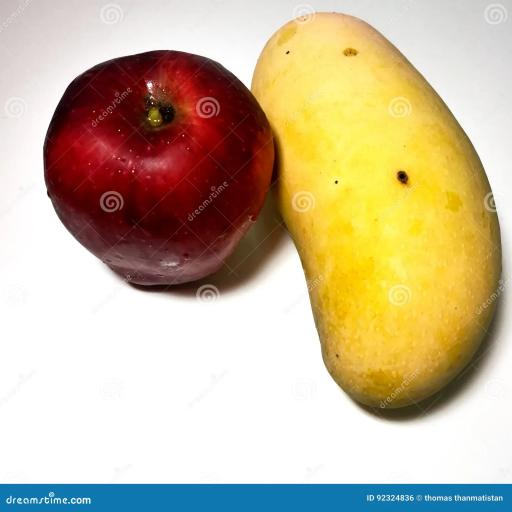apple: (44, 51, 273, 284)
mango: (252, 13, 500, 407)
